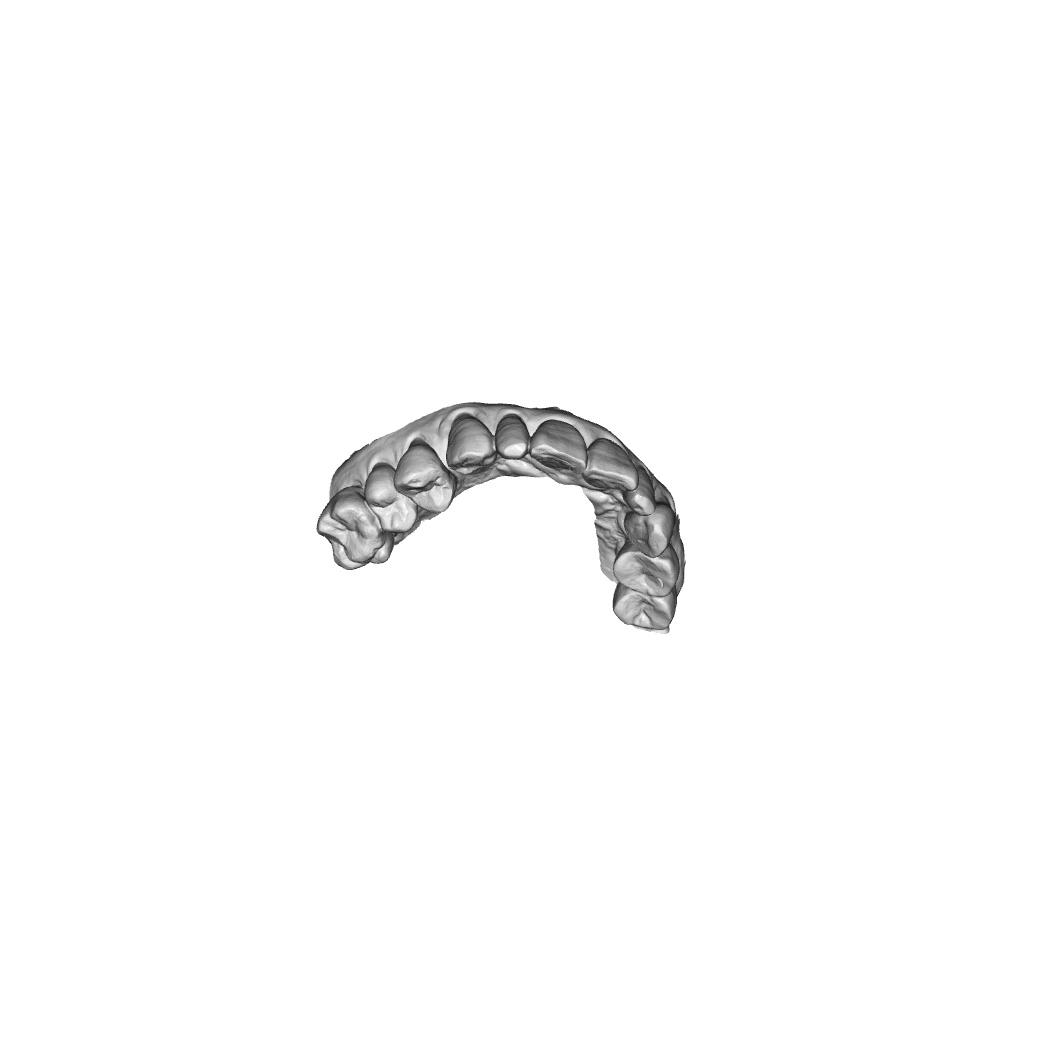canine: (443, 411, 498, 479), (622, 501, 678, 559)
incisor: (528, 417, 588, 478), (581, 436, 640, 493), (621, 464, 657, 518), (494, 410, 531, 462)
molar: (315, 485, 395, 572)
premolar: (391, 439, 457, 516), (610, 542, 682, 599), (363, 462, 419, 535), (610, 582, 676, 631)
